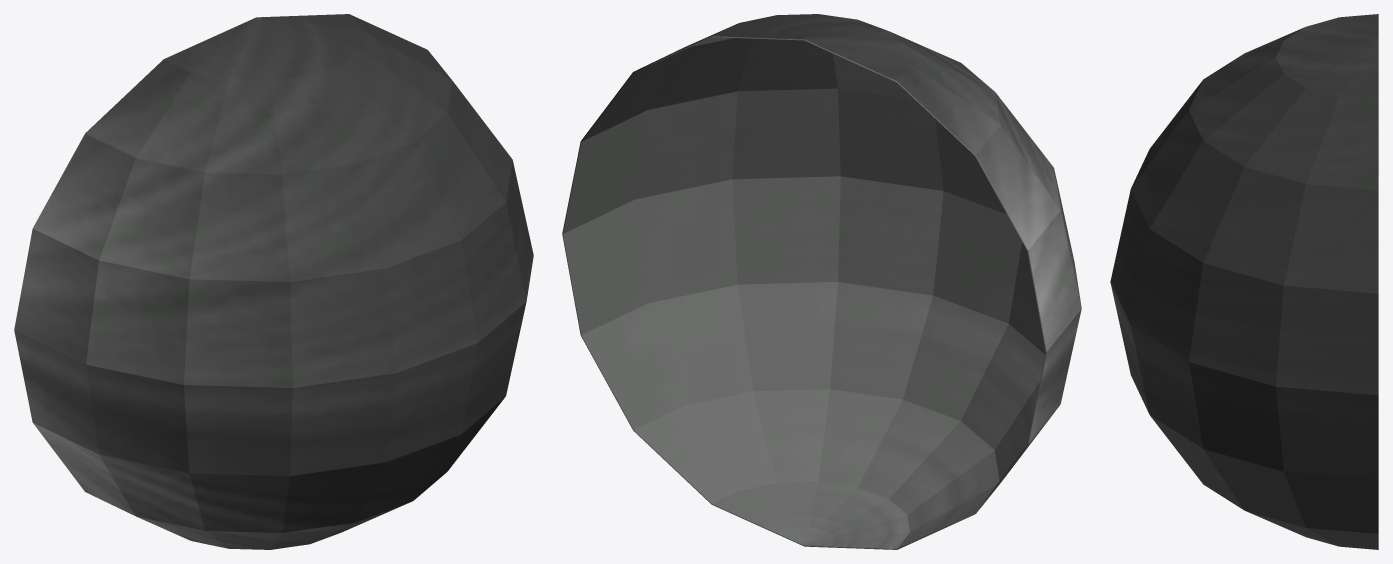
The model's file is tx_boss_shengguangzhuoshao_fire.obj.
3 renders of one model, left to right at view 1: azimuth 30°, elevation 25°; view 2: azimuth 150°, elevation 25°; view 3: azimuth 270°, elevation 25°, orthographic. The views are drawn at different scales.
Parts seen in each view (by area): view 1: Sphere02; view 2: Sphere01, Sphere02; view 3: Sphere02, Sphere01.
Boxes of the visible parts, bbox=[...] form: Sphere02: bbox=[14, 14, 533, 549]; Sphere01: bbox=[563, 36, 1046, 548]; Sphere02: bbox=[562, 14, 1081, 549]; Sphere02: bbox=[1110, 14, 1378, 549]; Sphere01: bbox=[1378, 176, 1378, 536].
Bounding box in the file's own units: 180 × 180 × 90.19.
Materials: 2 (2 with a texture image).
